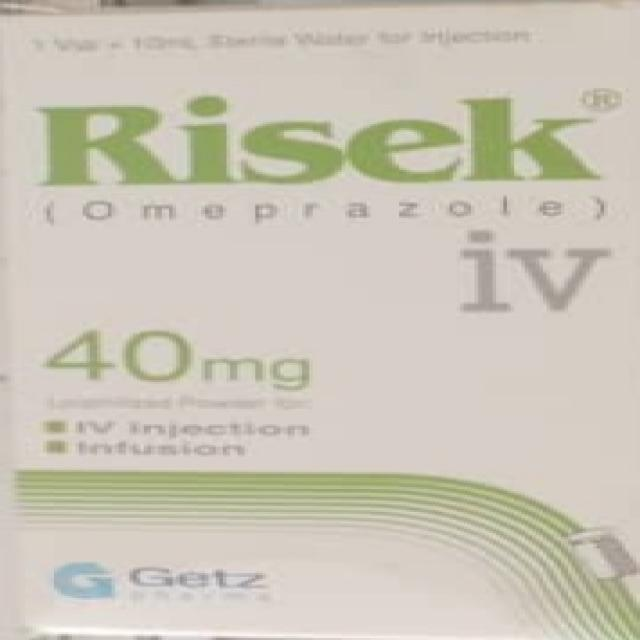drug-name: (30, 100, 607, 190)
